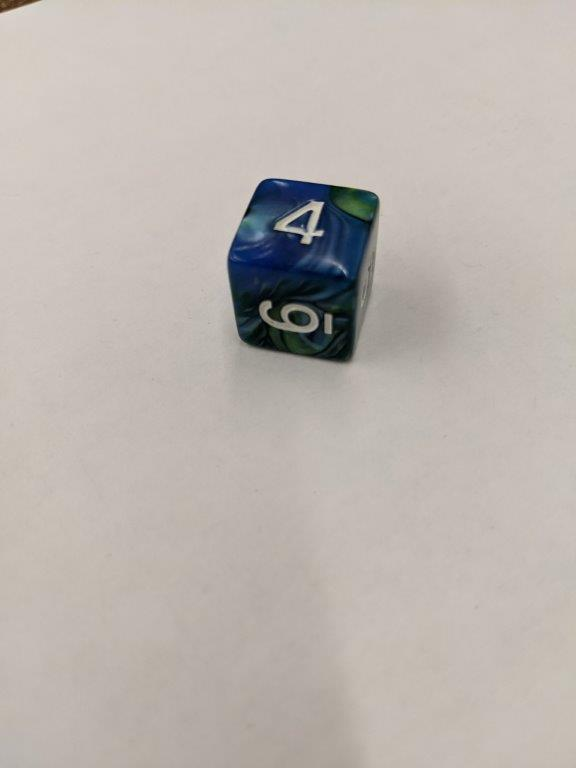d6-4: (224, 177, 382, 362)
